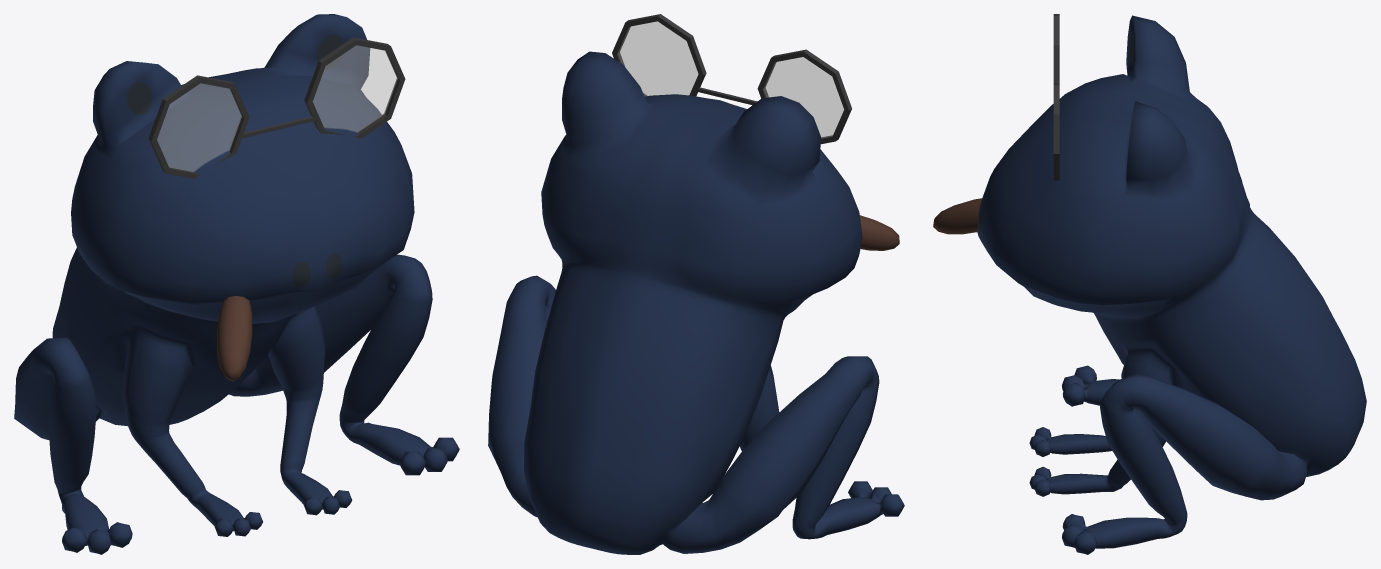
Rendered from big frog boss.fbx.
3 views of the same model, side by side, from view 1: azimuth 30°, elevation 25°; view 2: azimuth 150°, elevation 25°; view 3: azimuth 270°, elevation 25° (orthographic). The views are drawn at different scales.
Visible parts, largest first — view 1: frog, glasses, cigar; view 2: frog, glasses, cigar; view 3: frog, cigar, glasses.
Part boxes in pixels (x1,y1,x2,y2): frog: (14,14,459,554); glasses: (148,37,405,178); cigar: (217,295,252,381); frog: (488,51,904,554); glasses: (612,14,851,144); cigar: (859,215,899,250); frog: (977,15,1366,554); cigar: (933,198,981,234); glasses: (1053,14,1059,180).
Size of the model in its own units: 0.89 by 0.9987 by 0.9292.
